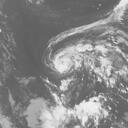cyclone: (40, 21, 121, 74)
